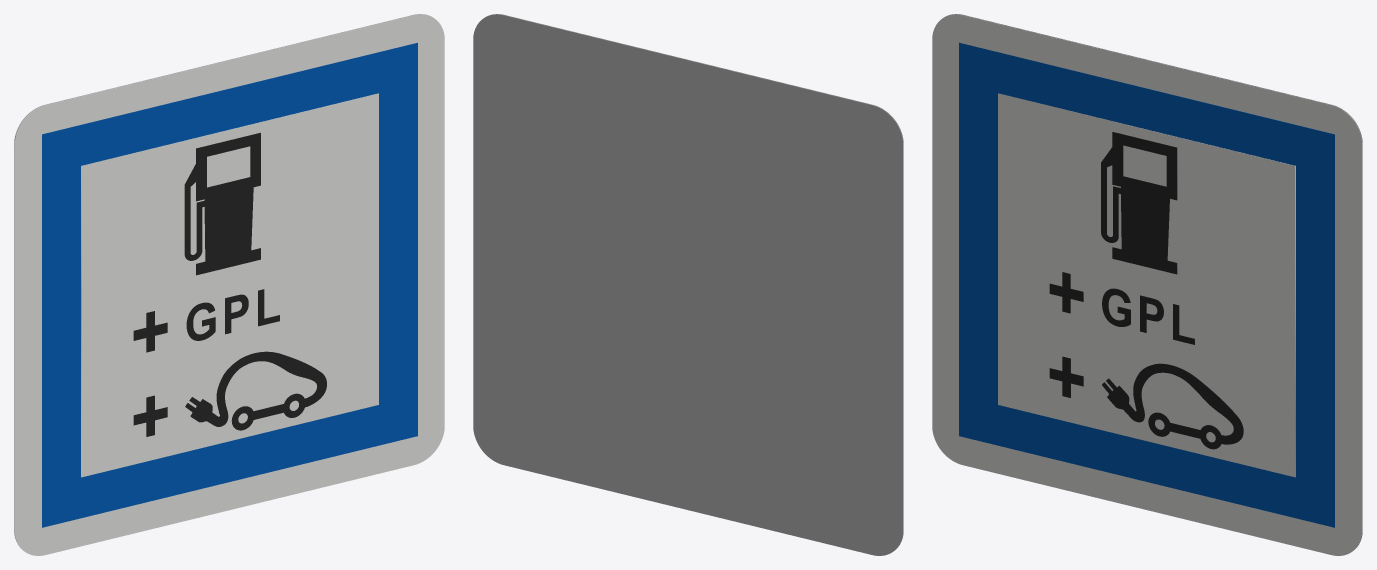
3 views of the same model, side by side, from view 1: azimuth 30°, elevation 25°; view 2: azimuth 150°, elevation 25°; view 3: azimuth 330°, elevation 25° (orthographic).
Visible parts, largest first — view 1: CE15h_p02, CE15h_p01, CE15h_p00, CE15h_p04, CE15h_p03, CE15h_dos, CE15h_p05, CE15h_p06, CE15h_p07, CE15h_p08; view 2: CE15h_dos, CE15h_p00; view 3: CE15h_p02, CE15h_p01, CE15h_p00, CE15h_p04, CE15h_p03, CE15h_dos, CE15h_p05, CE15h_p06, CE15h_p07, CE15h_p08.
Part boxes in pixels (x1=…): CE15h_p02: x1=81, y1=93, x2=378, y2=477; CE15h_p01: x1=42, y1=42, x2=417, y2=527; CE15h_p00: x1=14, y1=14, x2=444, y2=555; CE15h_p04: x1=184, y1=132, x2=260, y2=275; CE15h_p03: x1=185, y1=351, x2=326, y2=430; CE15h_dos: x1=14, y1=14, x2=431, y2=547; CE15h_p05: x1=133, y1=395, x2=167, y2=436; CE15h_p06: x1=133, y1=311, x2=167, y2=352; CE15h_p07: x1=186, y1=302, x2=215, y2=340; CE15h_p08: x1=225, y1=294, x2=248, y2=334; CE15h_dos: x1=473, y1=14, x2=903, y2=555; CE15h_p00: x1=486, y1=14, x2=903, y2=547; CE15h_p02: x1=998, y1=93, x2=1295, y2=477; CE15h_p01: x1=959, y1=42, x2=1334, y2=527; CE15h_p00: x1=932, y1=14, x2=1362, y2=555; CE15h_p04: x1=1101, y1=132, x2=1177, y2=274; CE15h_p03: x1=1102, y1=363, x2=1243, y2=449; CE15h_dos: x1=945, y1=14, x2=1362, y2=547; CE15h_p05: x1=1049, y1=356, x2=1083, y2=397; CE15h_p06: x1=1049, y1=272, x2=1083, y2=313; CE15h_p07: x1=1102, y1=288, x2=1130, y2=326; CE15h_p08: x1=1140, y1=295, x2=1163, y2=332.
Bounding box in the file's own units: 0.7 × 0.6999 × 0.0055.
